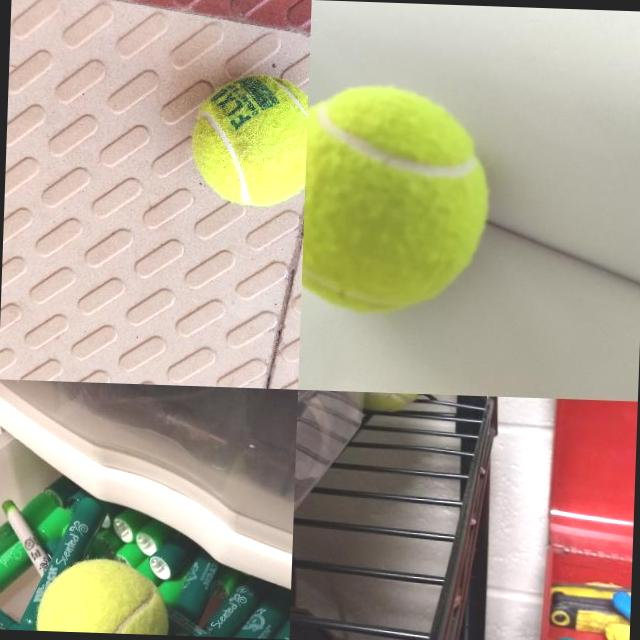Tennis Ball: (300, 80, 494, 320), (190, 72, 308, 206), (34, 555, 174, 634), (372, 392, 426, 413)
